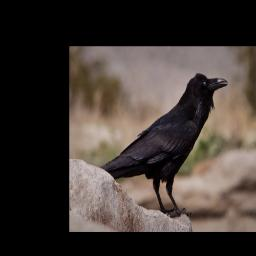Crow: (99, 69, 230, 215)
